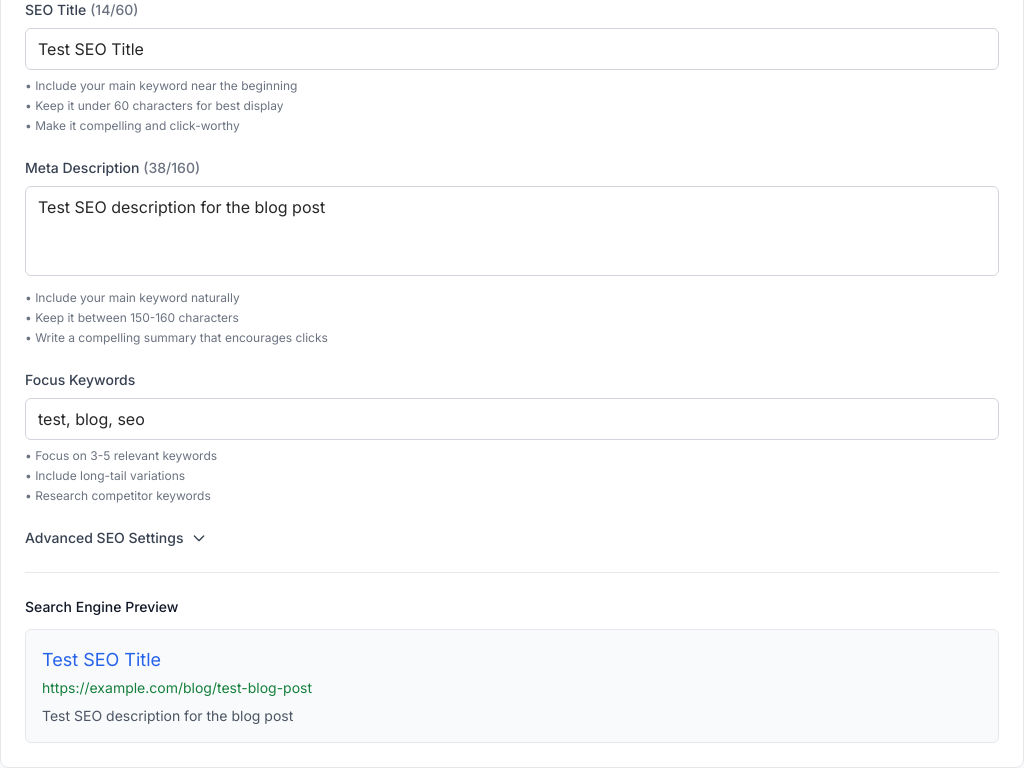
Scenario: SEOOptimizer › shows advanced SEO fields when expanded
This screenshot has width=1024, height=768.
(page scrolled)
Click the button "Advanced SEO Settings" at (116, 538), box [25,528,208,548]
(page scrolled)
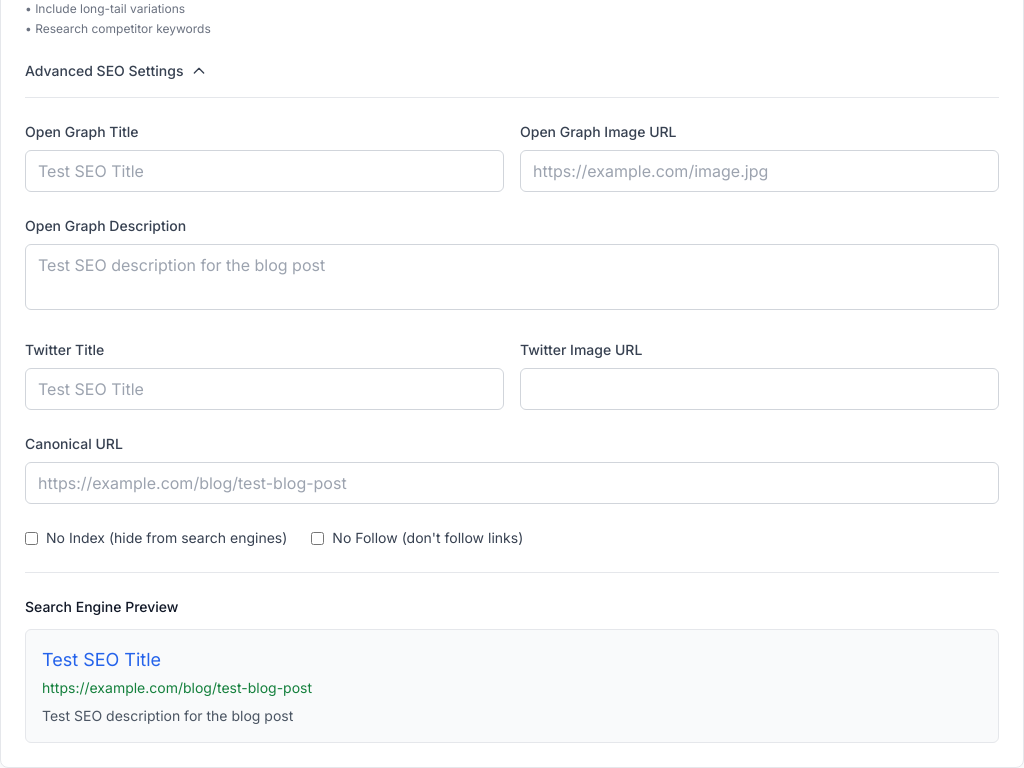
Expected: the field labelled "Open Graph Title" is shown, [25,150,504,192]
Expected: the field labelled "Open Graph Image URL" is shown, [520,150,999,192]
Expected: the field labelled "Twitter Title" is shown, [25,368,504,410]
